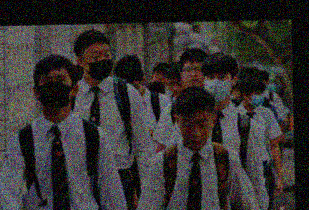with_mask: (36, 72, 72, 110), (83, 46, 114, 82), (203, 70, 232, 103), (250, 90, 265, 109)
without_mask: (180, 116, 214, 149), (182, 63, 204, 87), (167, 77, 183, 97), (151, 69, 168, 86)
